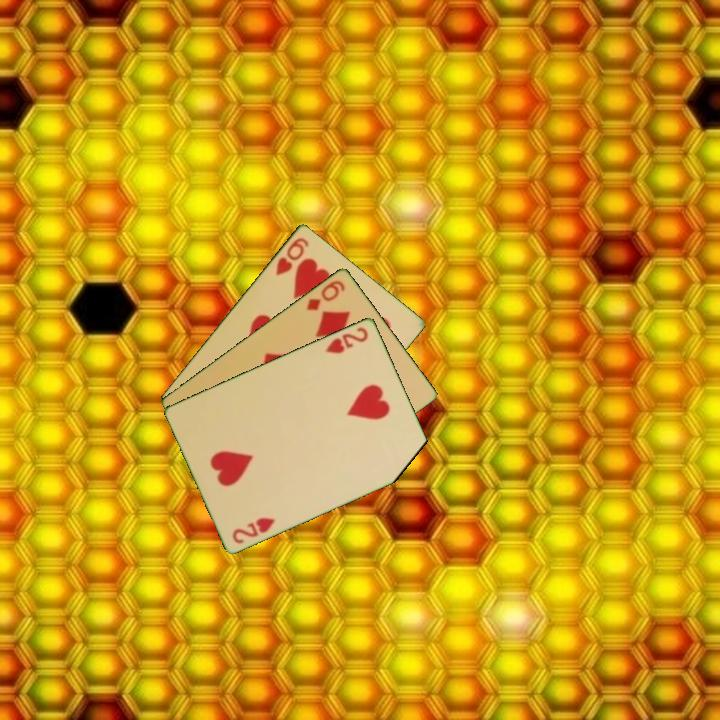2h: (229, 513, 279, 546), (322, 323, 371, 356)
6d: (303, 276, 348, 313)
6h: (272, 233, 312, 278)
